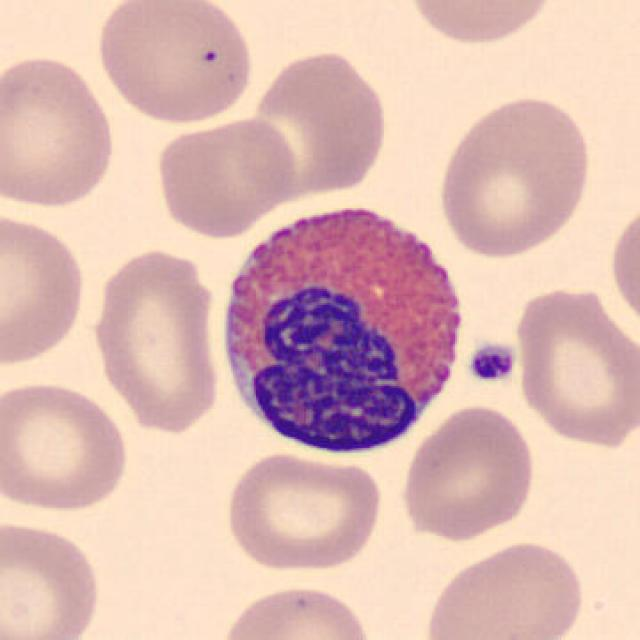Eosinophil: (208, 184, 478, 466)
Platelets: (464, 340, 517, 384)
RBC: (434, 92, 596, 261), (87, 243, 226, 438), (242, 44, 391, 201), (510, 282, 638, 451), (90, 0, 258, 127), (220, 450, 386, 574), (396, 402, 538, 543), (0, 50, 119, 212), (151, 113, 301, 240), (0, 375, 133, 516), (420, 536, 588, 640), (0, 207, 91, 370), (0, 516, 105, 640), (215, 580, 377, 640), (402, 0, 562, 48), (606, 196, 640, 335)
